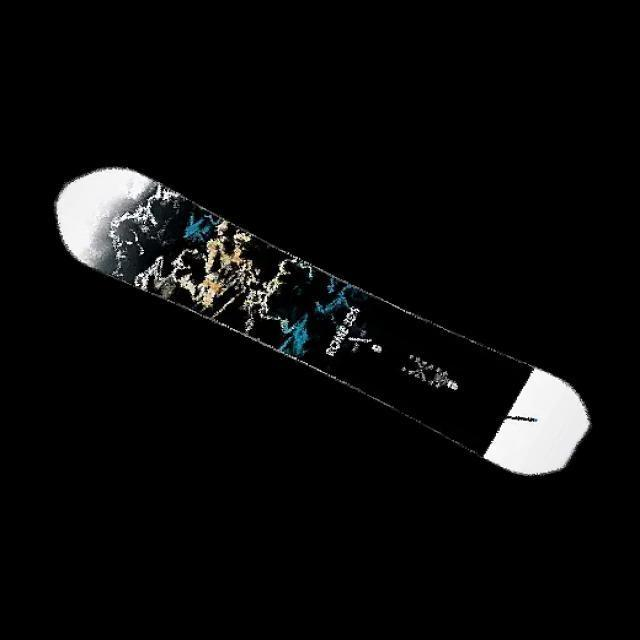Snowboard: (53, 164, 591, 477)
